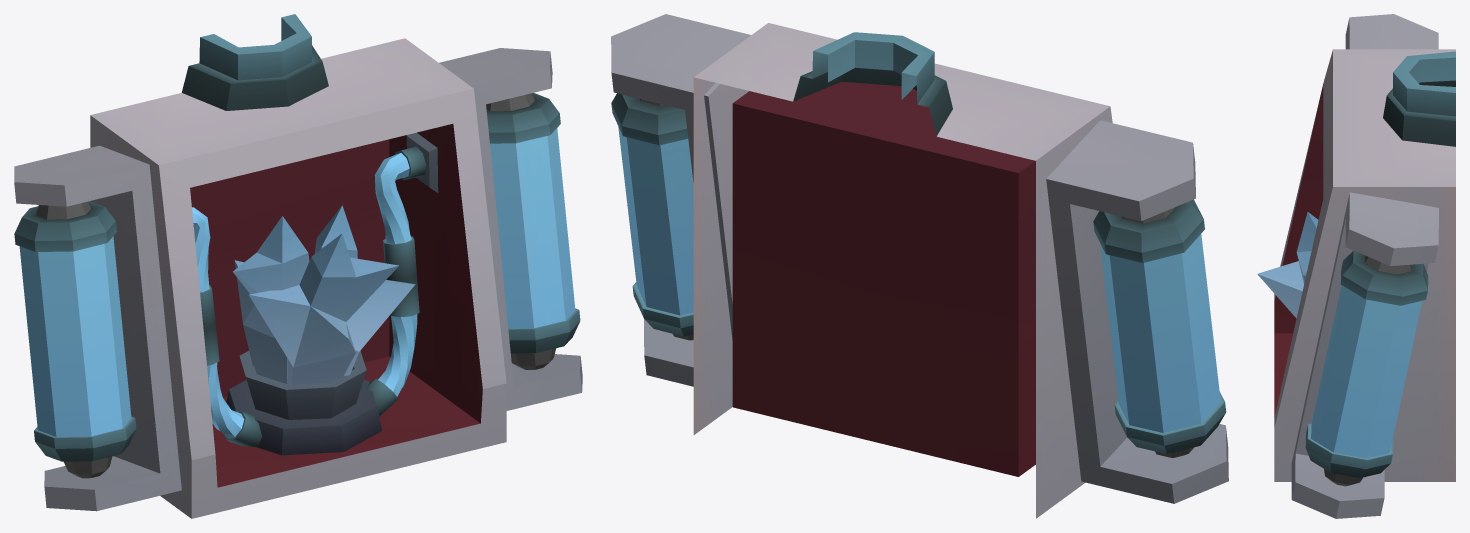
File: receptor de energia.fbx
3 views of the same model, side by side, from view 1: azimuth 30°, elevation 25°; view 2: azimuth 150°, elevation 25°; view 3: azimuth 270°, elevation 25° (orthographic). The views are drawn at different scales.
Parts seen in each view (by area): view 1: contenedor, receptor_energia_Vidrio; view 2: contenedor, receptor_energia_Vidrio; view 3: contenedor, receptor_energia_Vidrio.
Part boxes in pixels (bbox=[...]): contenedor: bbox=[14, 14, 582, 518]; receptor_energia_Vidrio: bbox=[19, 128, 575, 438]; contenedor: bbox=[611, 14, 1228, 518]; receptor_energia_Vidrio: bbox=[618, 126, 1220, 433]; contenedor: bbox=[1257, 14, 1455, 518]; receptor_energia_Vidrio: bbox=[1311, 285, 1422, 458].
Bounding box in the file's own units: 0.5592 × 0.3793 × 0.2006.
Materials: 2 (1 with a texture image).
